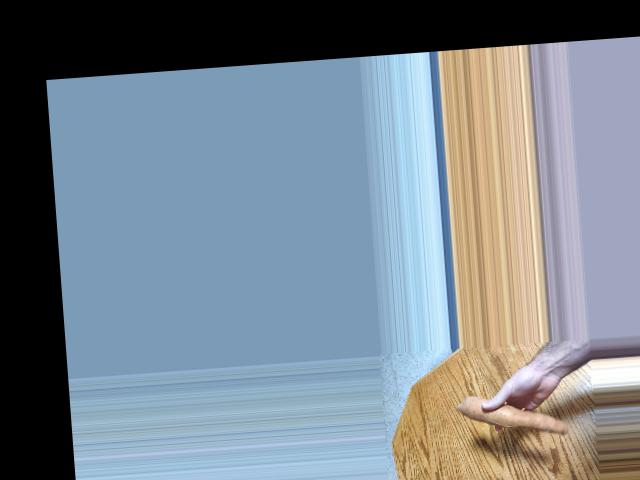sweet_potato: (459, 394, 573, 433)
